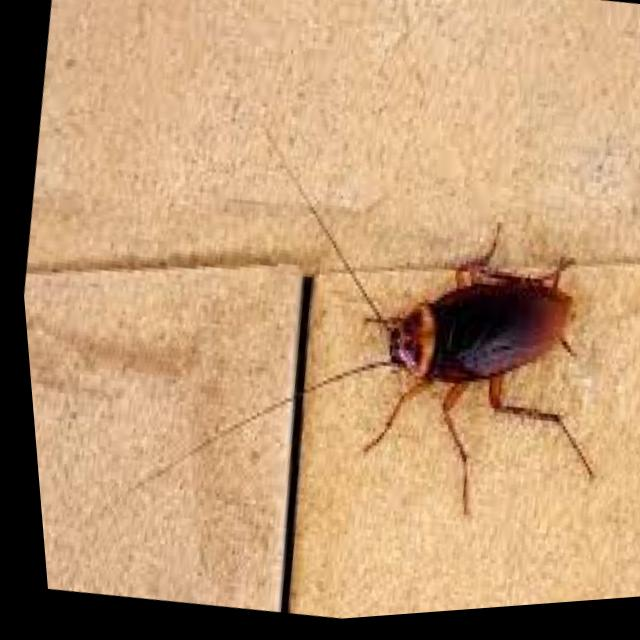Cockroach: (91, 108, 640, 591)
